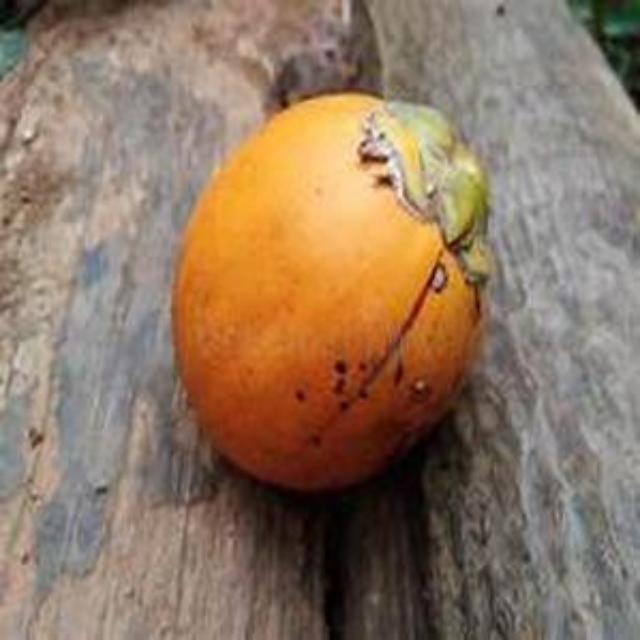good: (171, 92, 492, 497)
